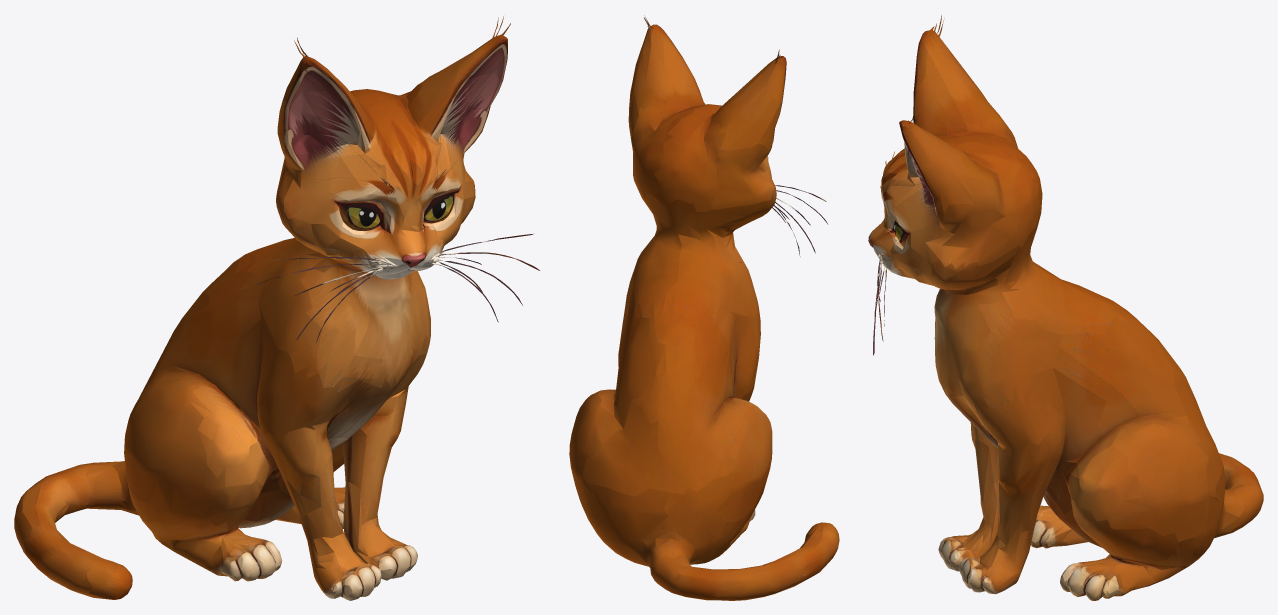
The model's file is cat.glb.
3 views of the same model, side by side, from view 1: azimuth 30°, elevation 25°; view 2: azimuth 150°, elevation 25°; view 3: azimuth 270°, elevation 25° (orthographic). The views are drawn at different scales.
Bounding box in the file's own units: 1.26 × 1.9 × 1.31.
Materials: 1 (1 with a texture image).
